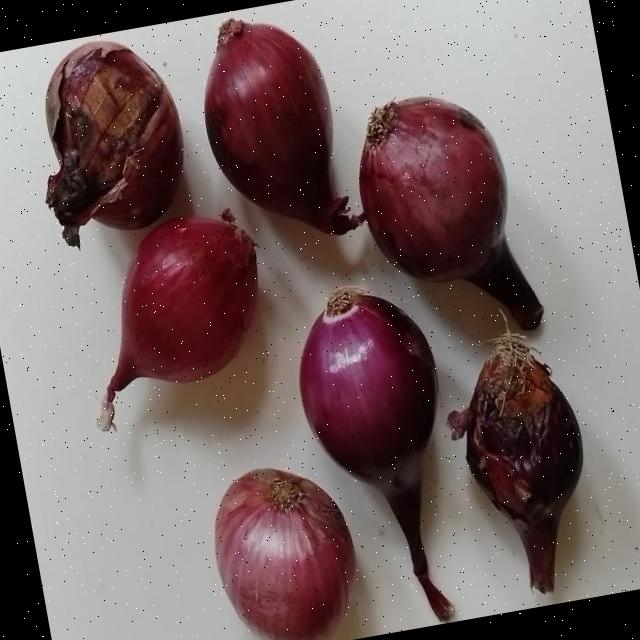Onion: (300, 290, 454, 621), (360, 96, 544, 328), (204, 18, 364, 233), (45, 41, 183, 245), (107, 214, 257, 401), (215, 470, 356, 640)
